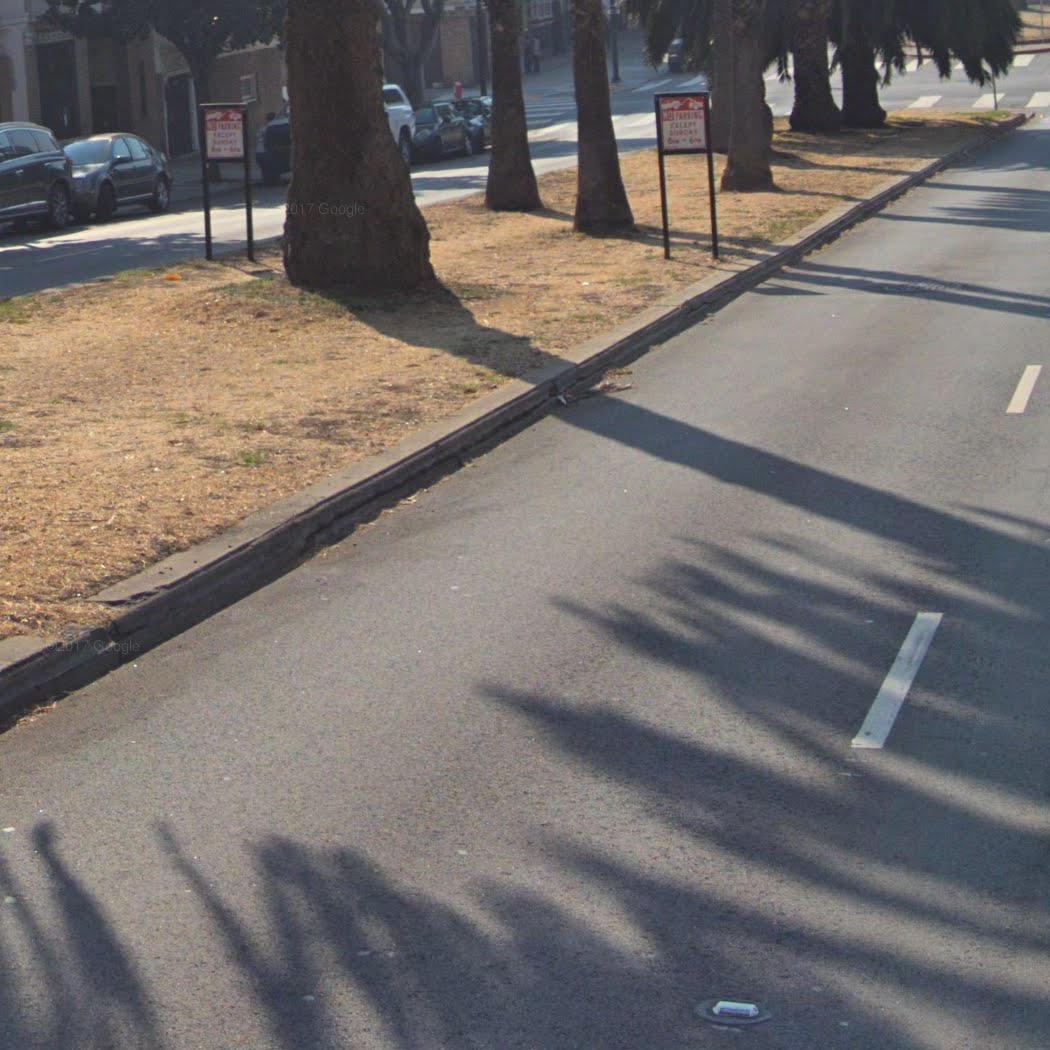No Parking: (656, 92, 712, 152), (198, 105, 247, 161)
